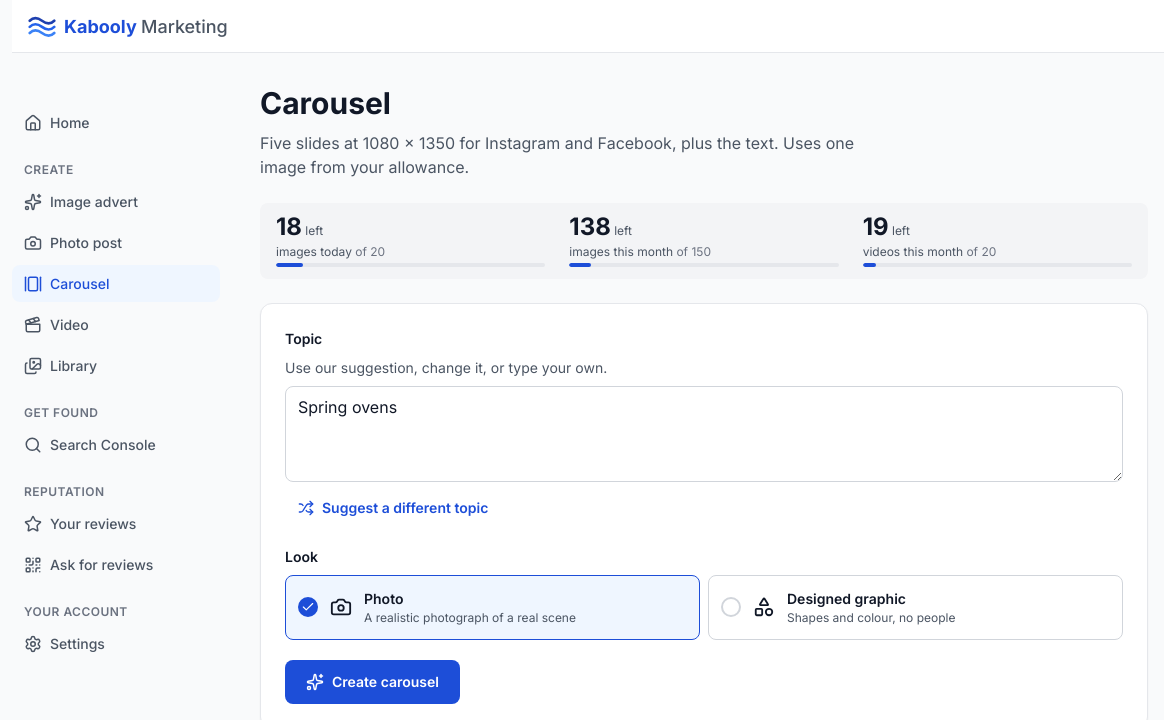
Test: carousels › reports a failed download
Expected: the text box with test id "topic-input" holds "Spring ovens", [285,386,1123,482]
What coordinates should you click on to do the following:
click the button with test id "generate"
I would click on:
 (372, 682)
Its box is [285,660,460,704].
(page scrolled)
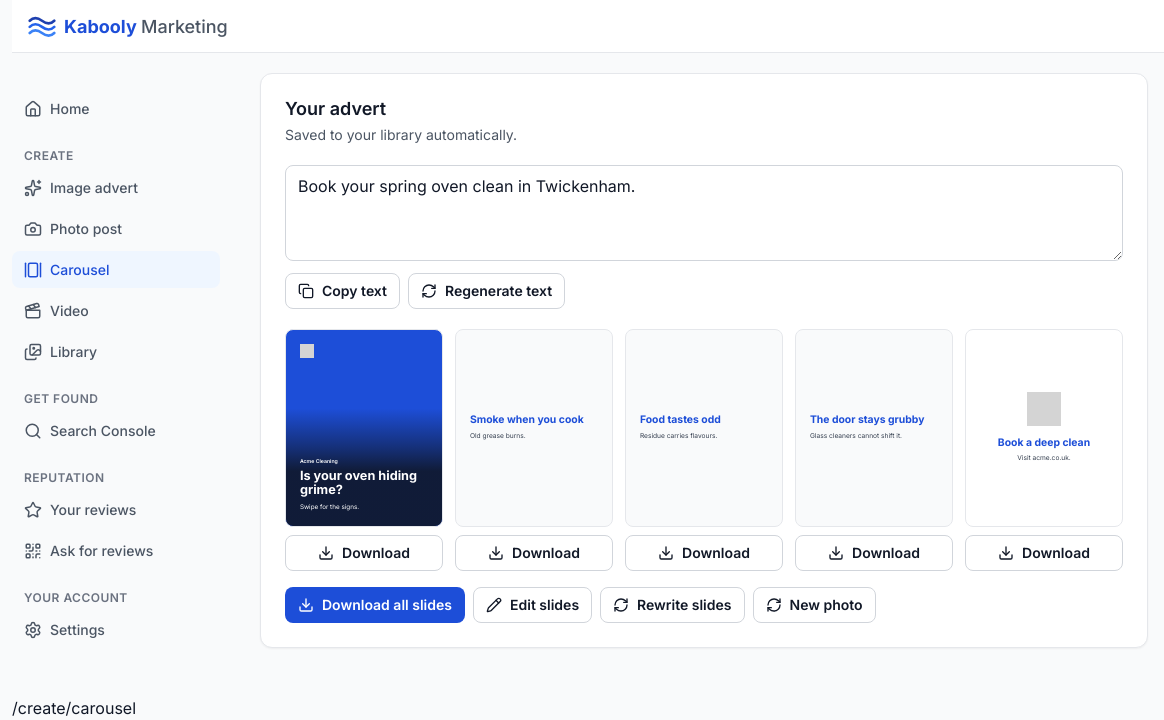
What coordinates should you click on to do the following:
click the button with test id "download-slide-1"
I would click on:
 (364, 552)
Its box is [285,534,443,570].
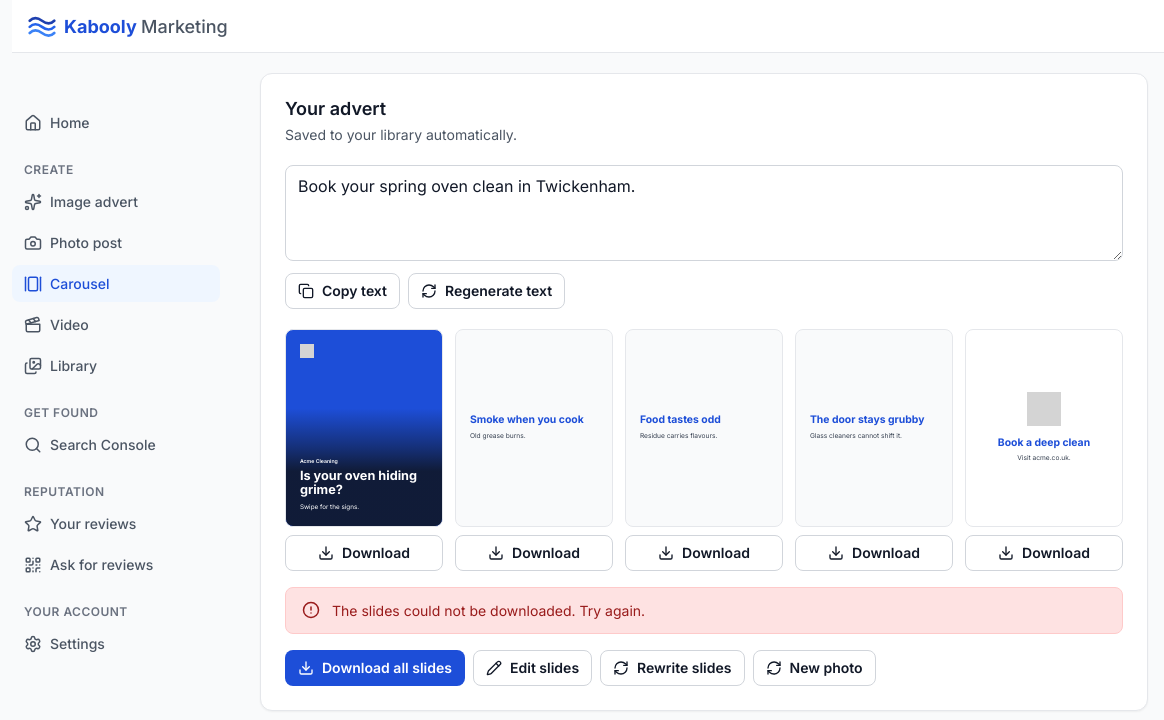
Now the text "The slides could not be downloaded. Try again." is shown, box [332,600,645,620]
